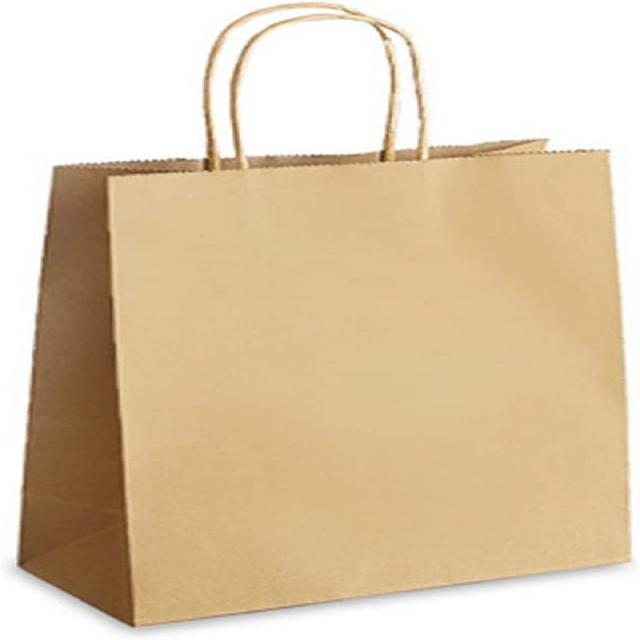paper bag: (4, 4, 640, 631)
